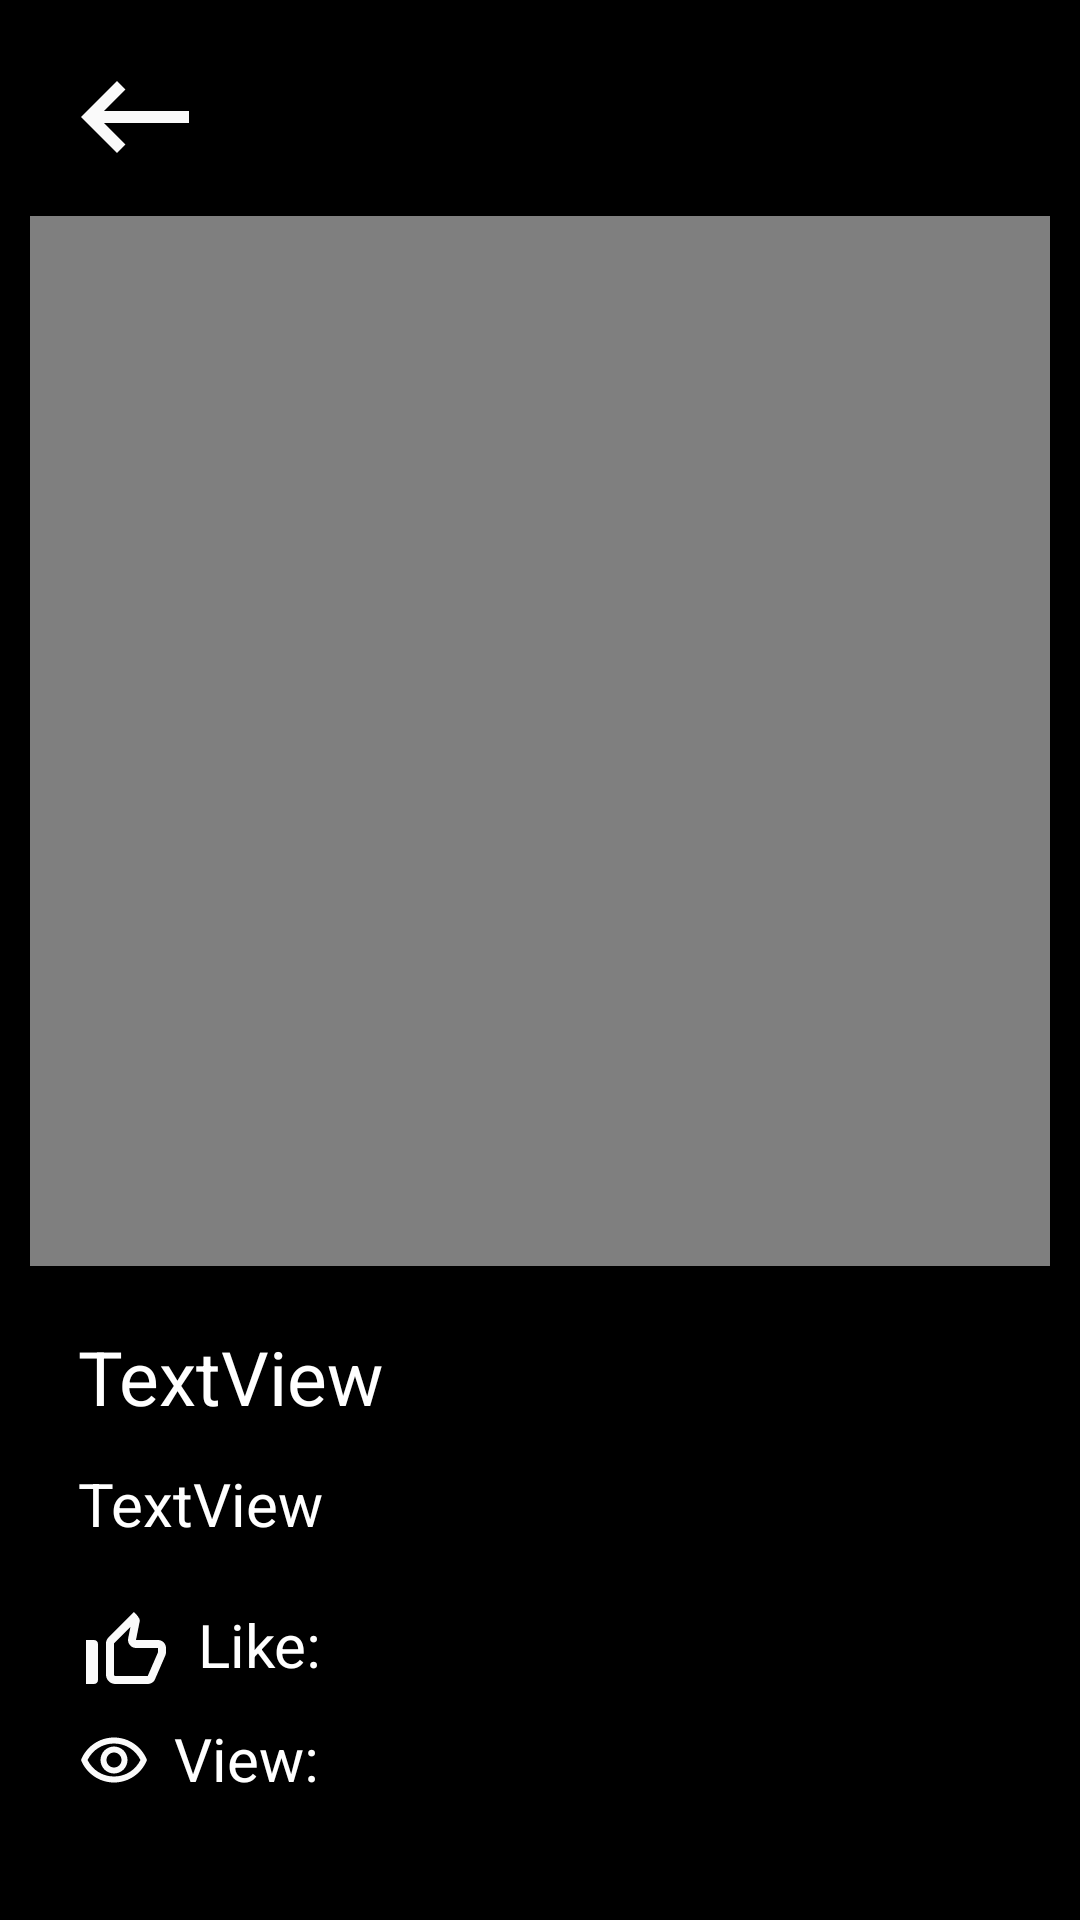

Screen size 1080px x 1920px. Icon name, then its center in pixels as point (x, y):
back: point (135, 117)
thumb up: point (126, 1648)
